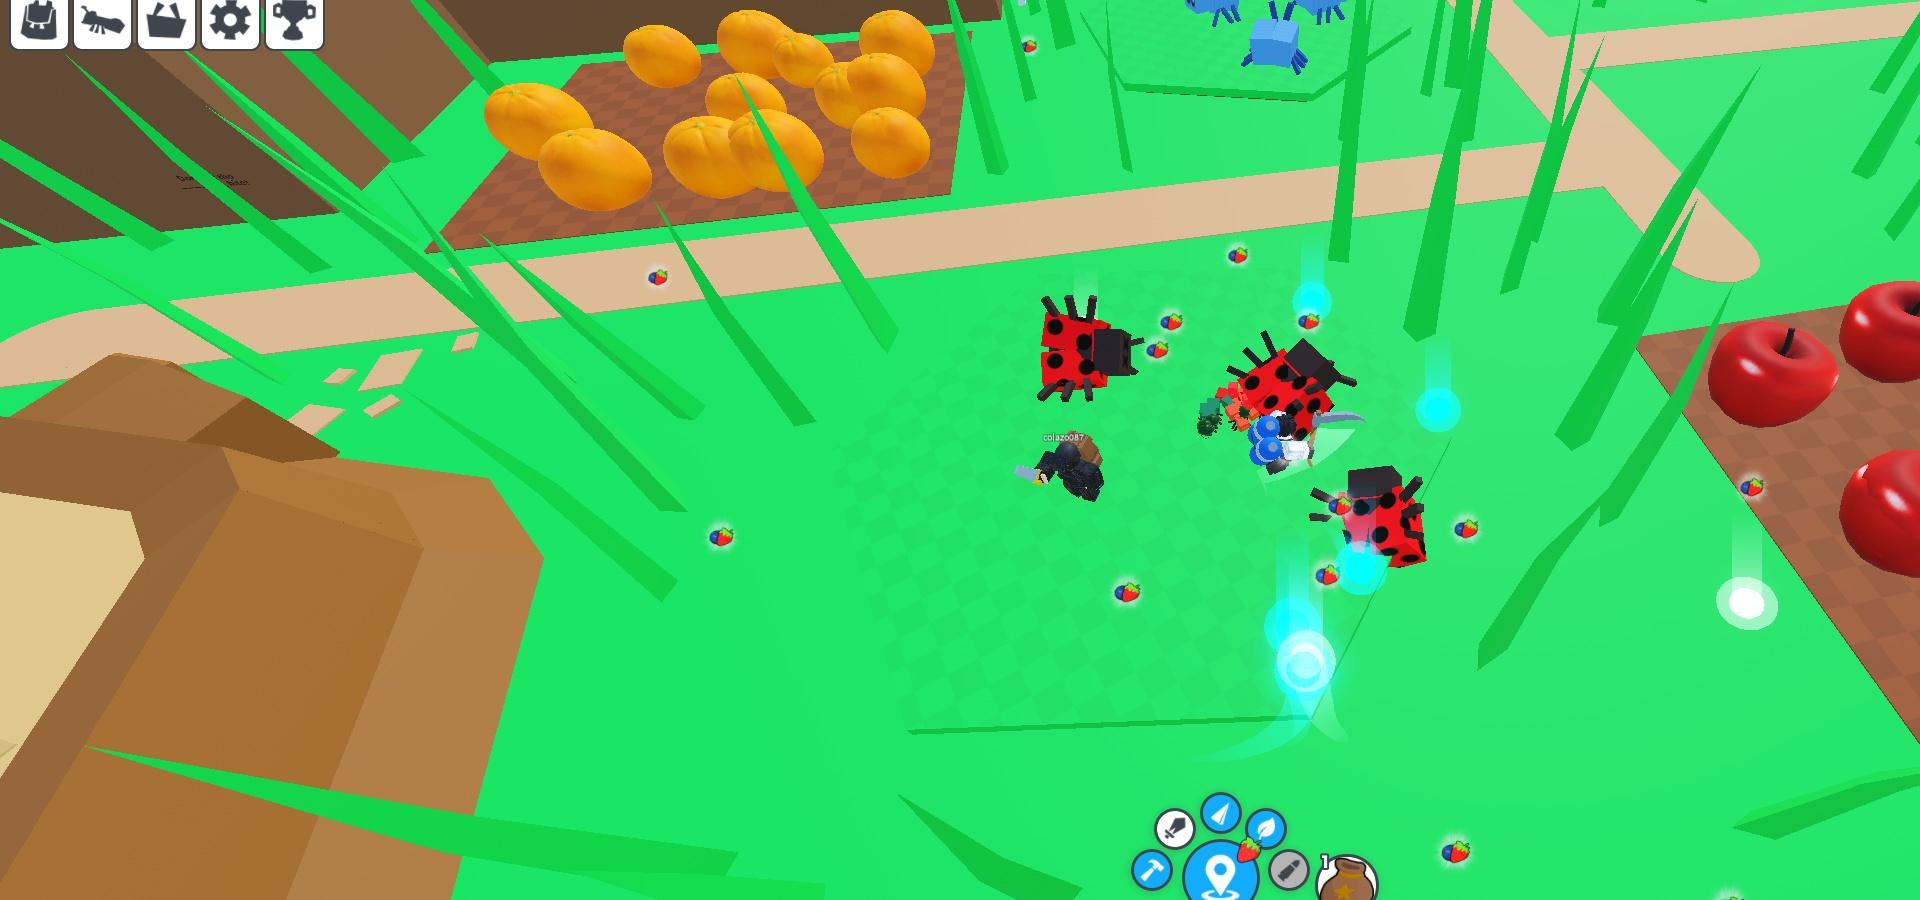Enemy: (1216, 326, 1346, 440), (1325, 465, 1435, 572), (1037, 293, 1142, 400), (1244, 9, 1314, 70), (1282, 0, 1353, 16), (1185, 0, 1247, 16)
